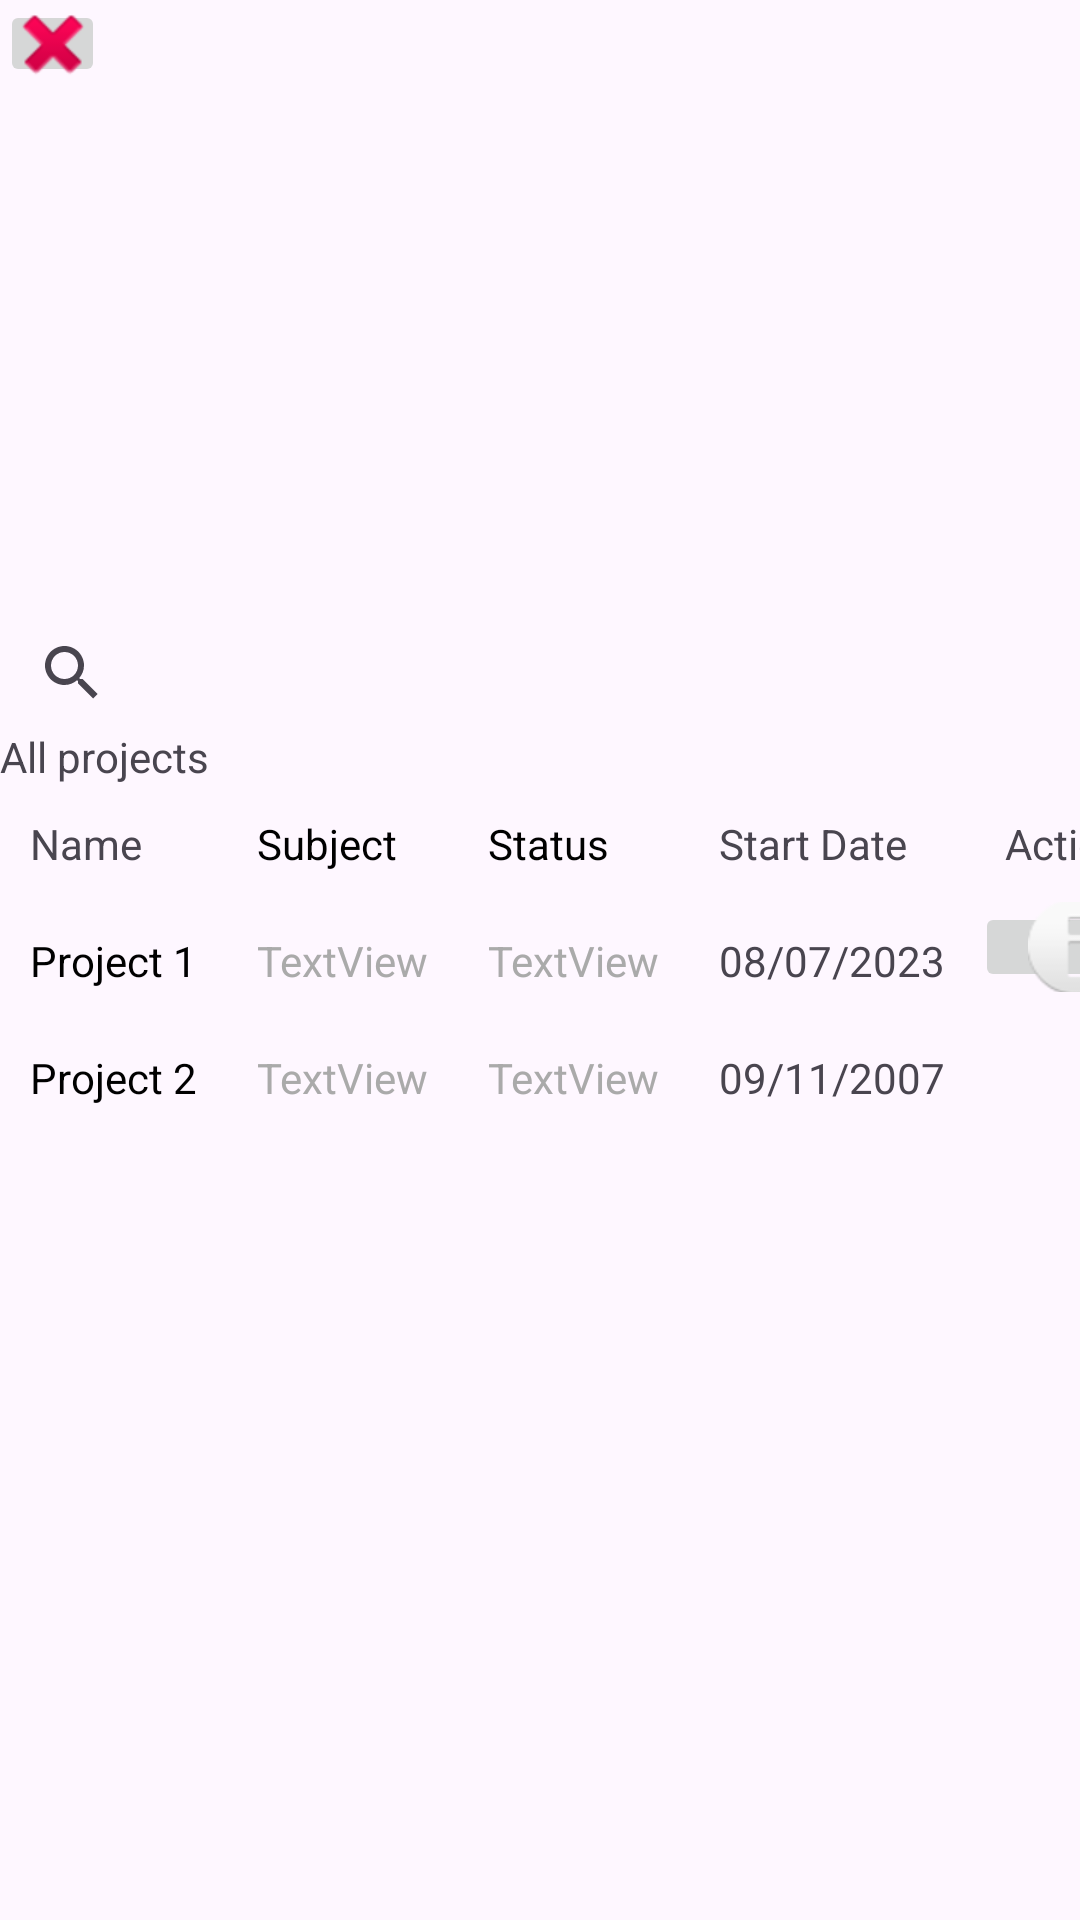

Icon click points for this 1080px x 1920px phone screenshot, format (x,y):
delete: (52,44)
